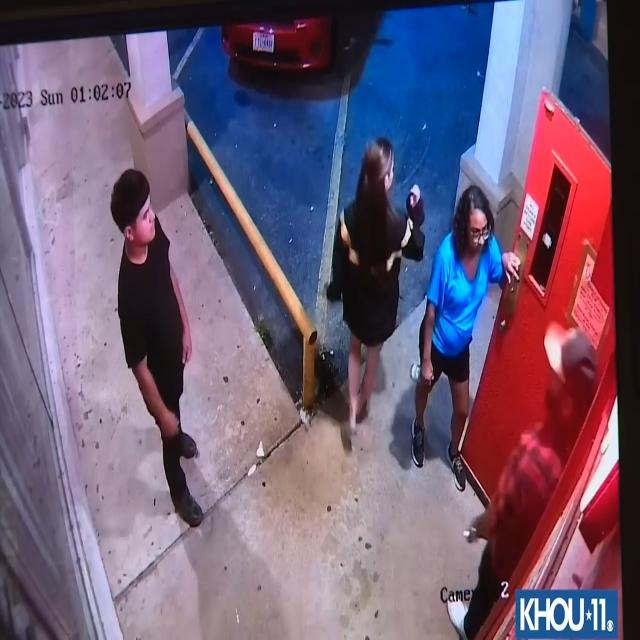Person: (457, 325, 592, 637), (100, 162, 206, 533), (321, 137, 420, 469), (428, 172, 503, 504)
